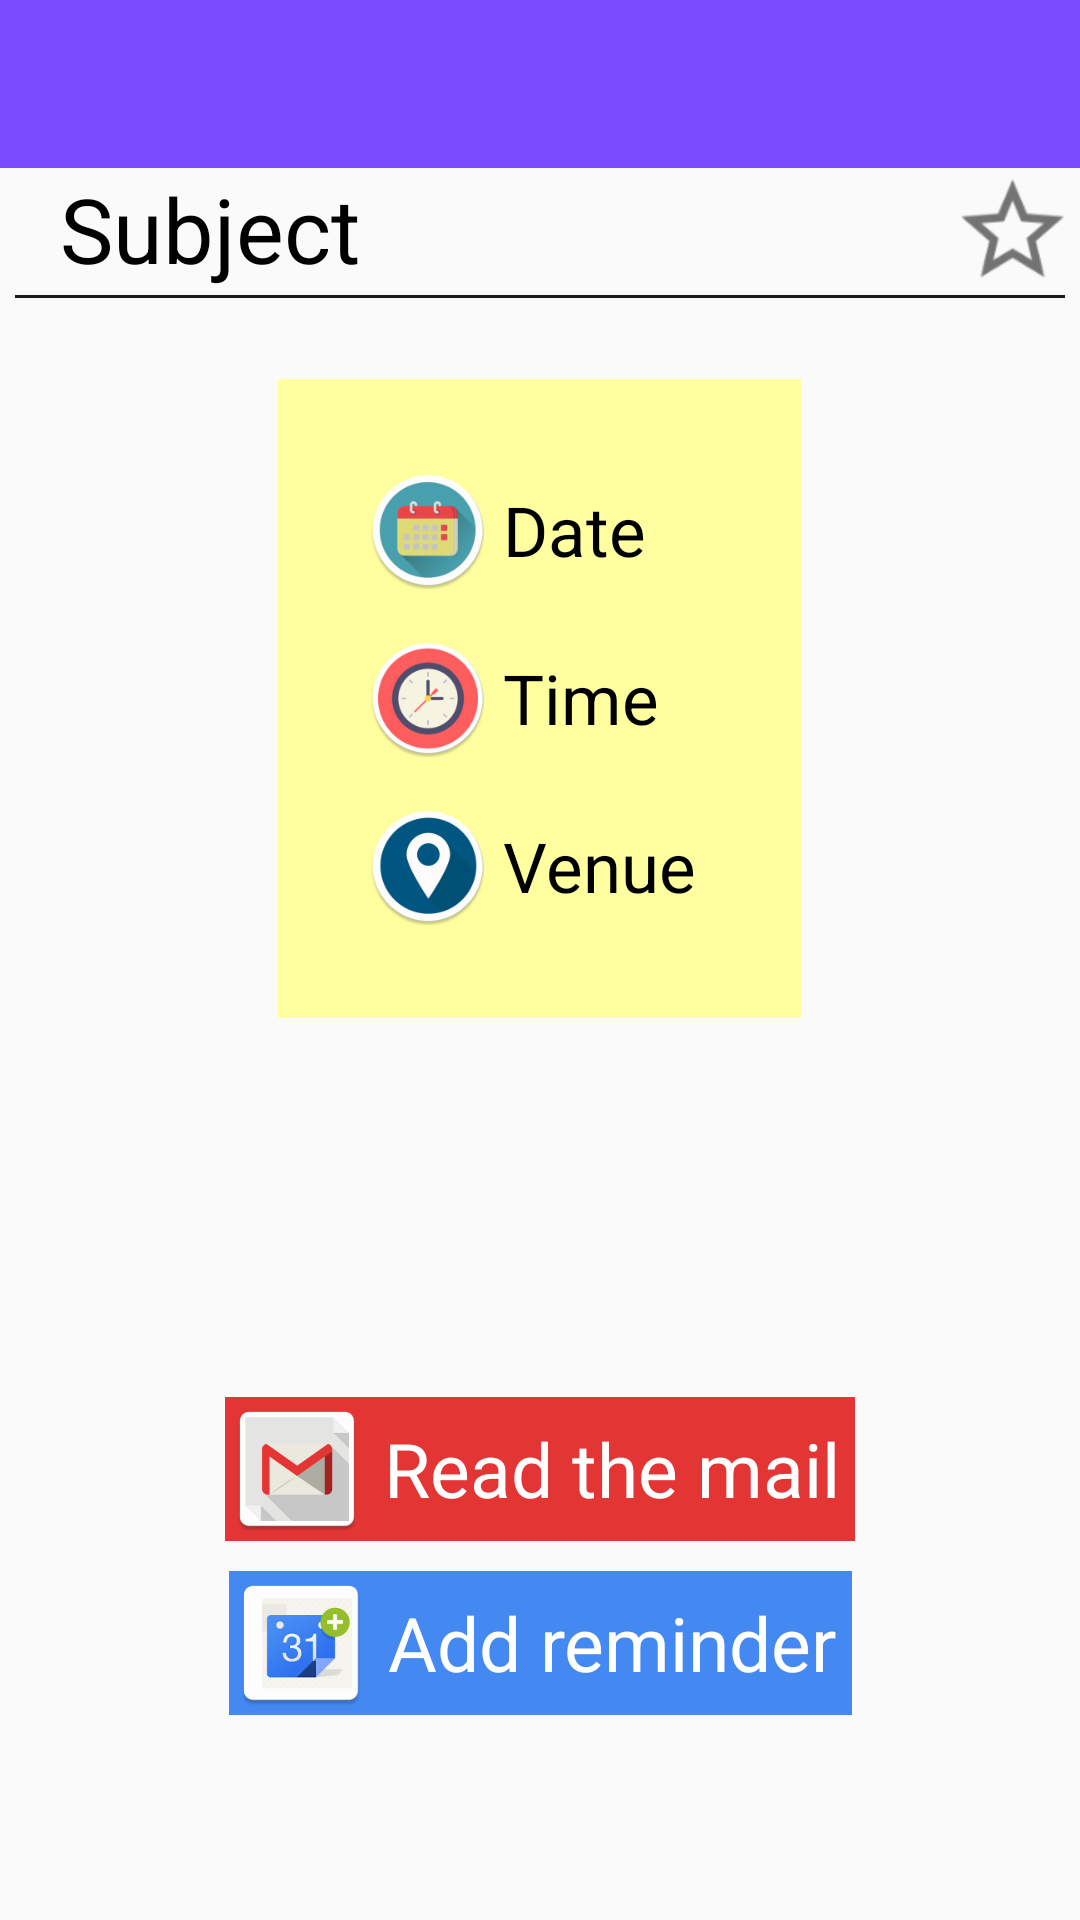

Named icons in this screenshot (1080*1920) and their centers, [x,y]:
starred: [1013,228]
